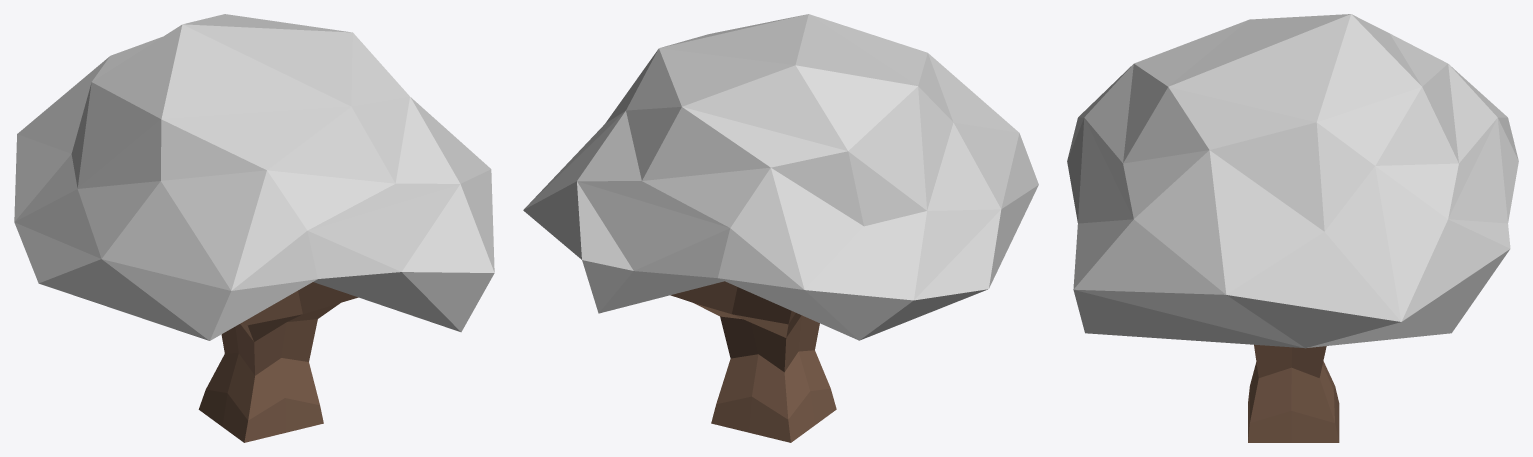
Rendered from Tree_34_White.fbx.
3 views of the same model, side by side, from view 1: azimuth 30°, elevation 25°; view 2: azimuth 150°, elevation 25°; view 3: azimuth 270°, elevation 25° (orthographic).
Parts seen in each view (by area): view 1: Tree_34_White_Part_1, Tree_34_White_Part_2; view 2: Tree_34_White_Part_1, Tree_34_White_Part_2; view 3: Tree_34_White_Part_1, Tree_34_White_Part_2.
Part boxes in pixels (x1,y1,x2,y2): Tree_34_White_Part_1: [14, 14, 494, 340]; Tree_34_White_Part_2: [198, 282, 358, 442]; Tree_34_White_Part_1: [523, 14, 1038, 340]; Tree_34_White_Part_2: [670, 281, 836, 442]; Tree_34_White_Part_1: [1067, 14, 1518, 348]; Tree_34_White_Part_2: [1248, 344, 1339, 442].
Size of the model in its own units: 804 by 710 by 755.
